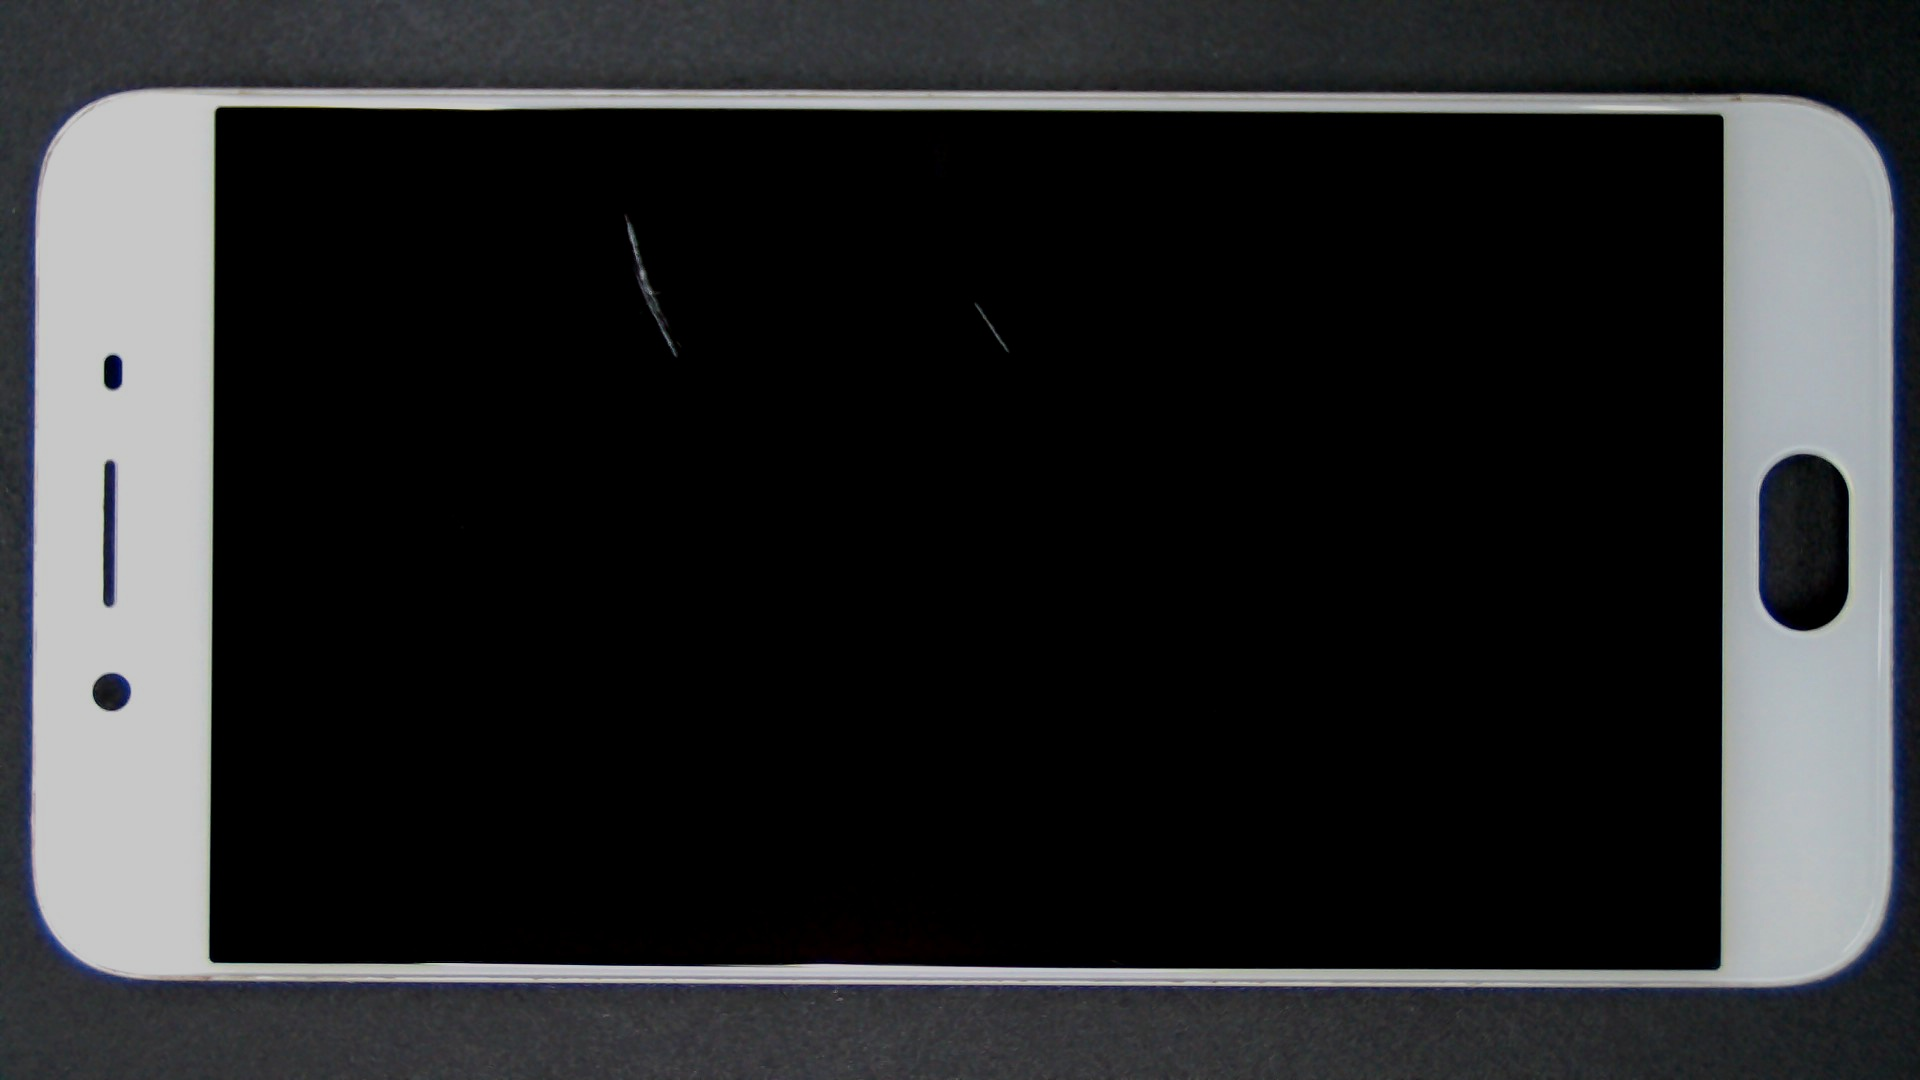oil: (488, 150, 1464, 452), (315, 104, 939, 322)
